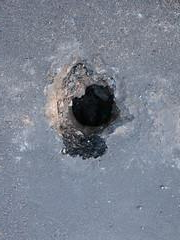Spalling: (56, 62, 134, 160)
